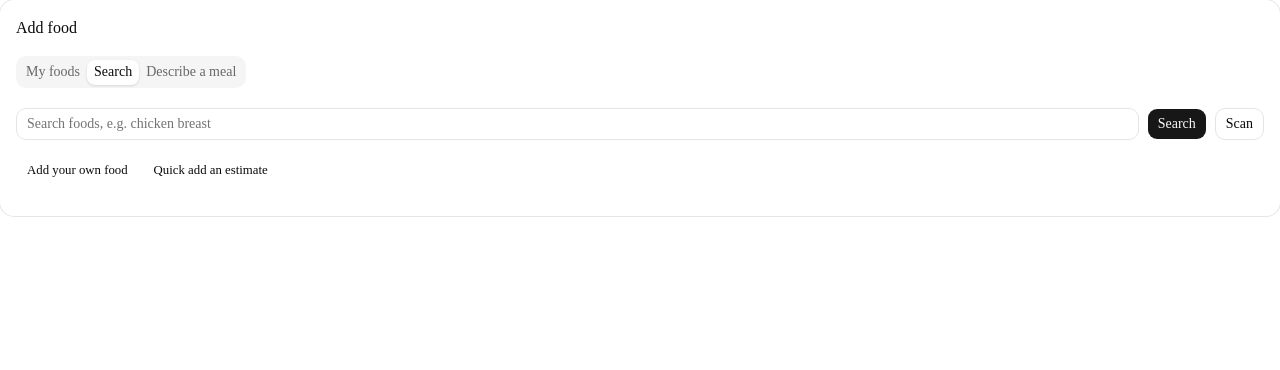
AddFood — a recognised dish (§13A–§13E) › trusts the server when a differently spelled food answers the query
The width and height of the screenshot is (1280, 370).
In the field labelled "Search foods": x=577, y=124 [16, 108, 1139, 140], type "ma2loubeh"
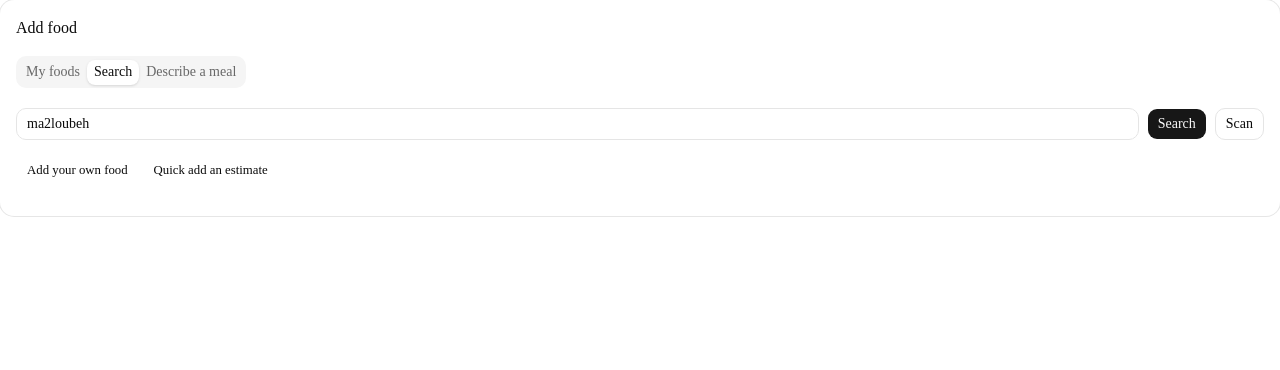
Click the button "Search": x=1177, y=124 [1147, 108, 1207, 140]
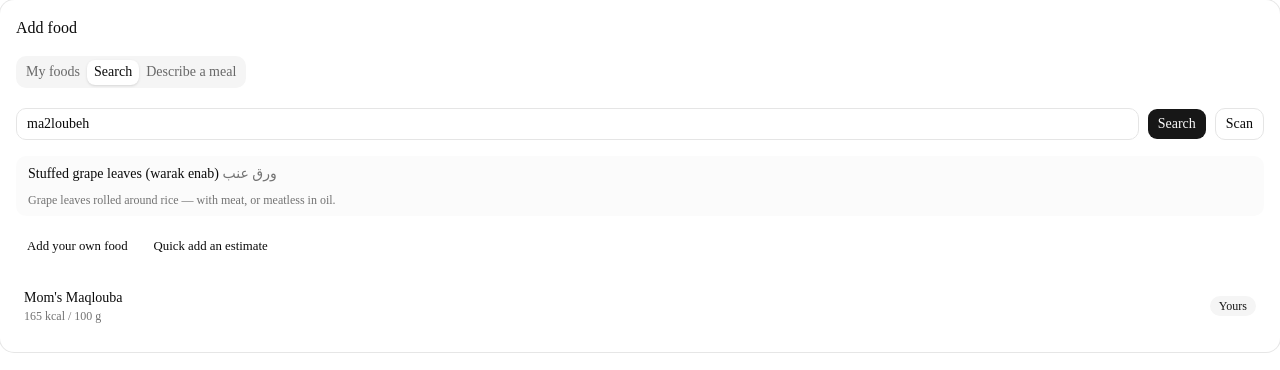
expect the button "Mom's Maqlouba 165 kcal / 100 g Yours" is shown: met, box [16, 276, 1264, 336]
